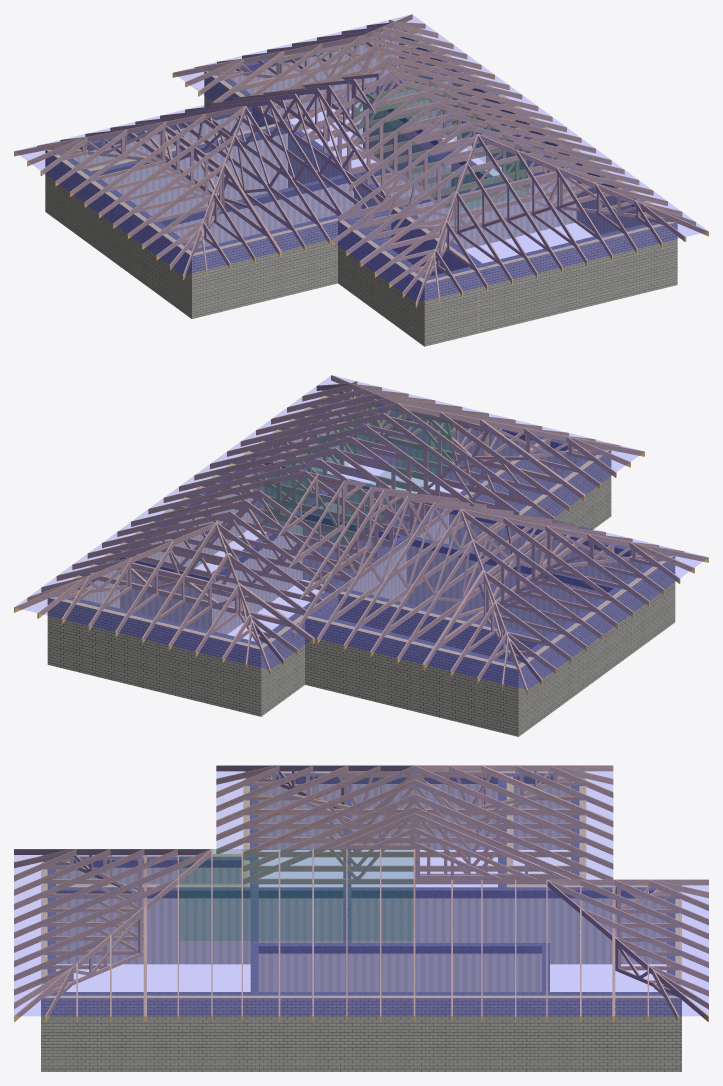
3 renders of one model, top to bottom at view 1: azimuth 30°, elevation 25°; view 2: azimuth 150°, elevation 25°; view 3: azimuth 270°, elevation 25°, orthographic. The views are drawn at different scales.
Visible parts, largest first — view 1: skfb_offset; view 2: skfb_offset; view 3: skfb_offset.
Part boxes in pixels (bbox=[...]): skfb_offset: bbox=[14, 14, 708, 346]; skfb_offset: bbox=[14, 375, 708, 736]; skfb_offset: bbox=[14, 765, 708, 1071].
Bounding box in the file's own units: 0.8544 × 0.2395 × 1.
8 materials, 6 textured.
